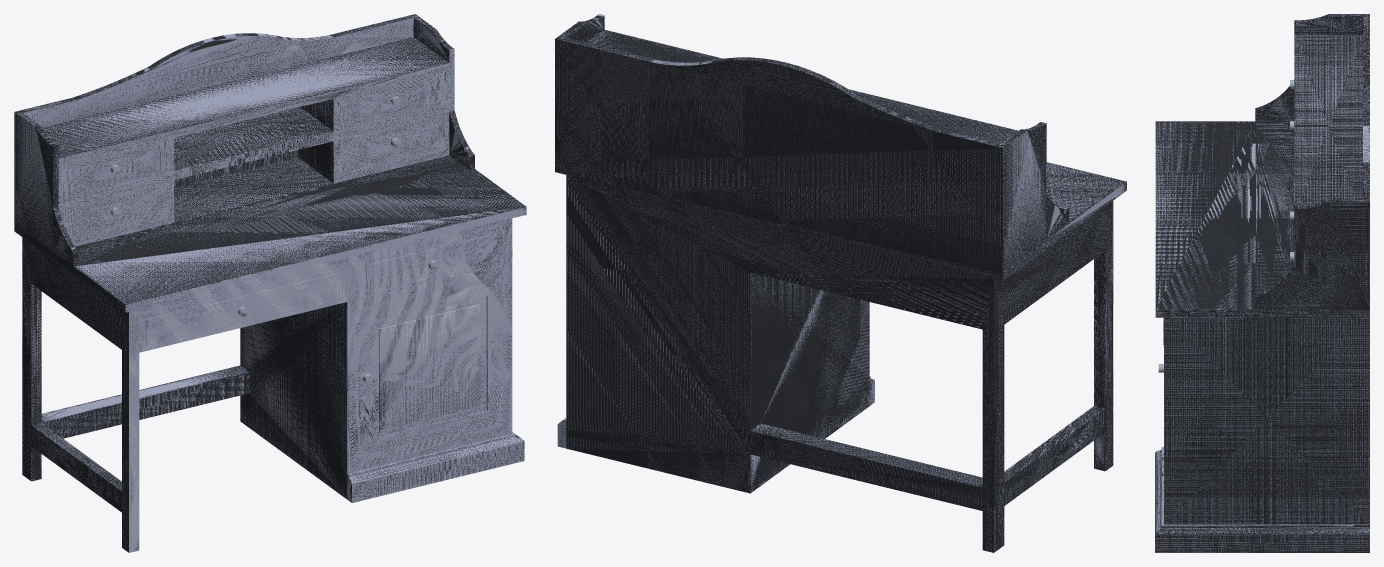
The model's file is prop_bureau_wooden_medium.fbx.
The picture shows the model from 3 angles, left to right: view 1: azimuth 30°, elevation 25°; view 2: azimuth 150°, elevation 25°; view 3: azimuth 270°, elevation 25°; orthographic projection. The views are drawn at different scales.
Visible parts, largest first — view 1: Model; view 2: Model; view 3: Model.
Boxes of the visible parts, x1=… form: Model: x1=14, y1=14, x2=526, y2=552; Model: x1=555, y1=14, x2=1126, y2=552; Model: x1=1155, y1=14, x2=1369, y2=552.
Size of the model in its own units: 1.3 by 1.21 by 0.6259.
